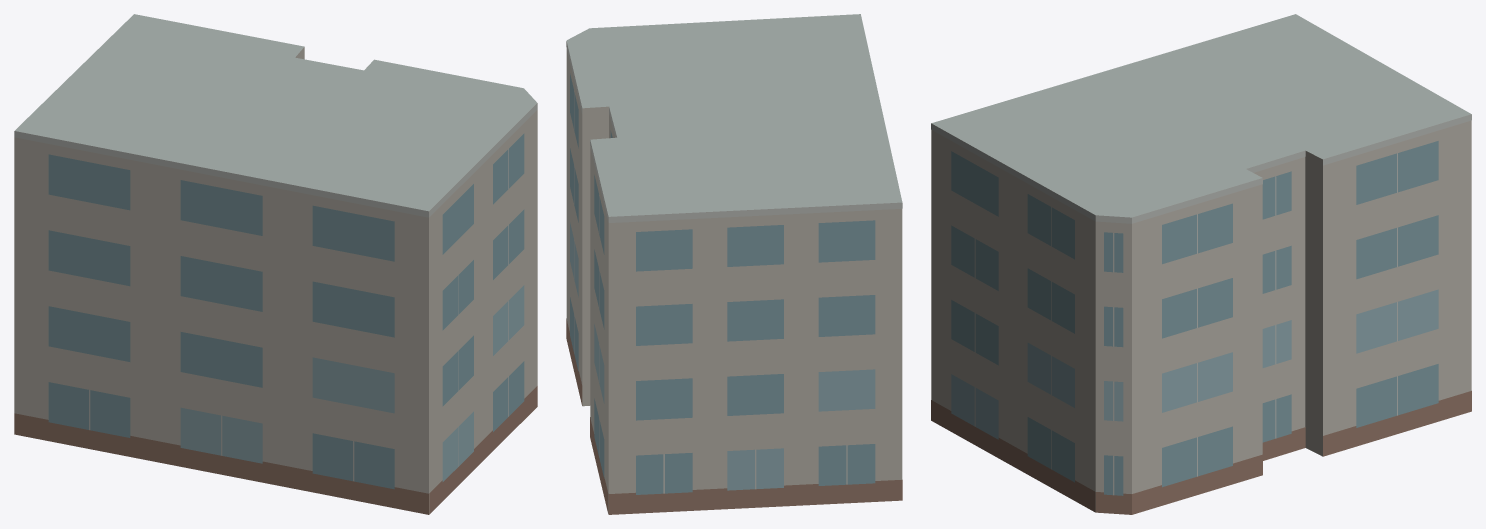
Rendered from survey-upis-33031485.glb.
The picture shows the model from 3 angles, left to right: view 1: azimuth 30°, elevation 25°; view 2: azimuth 150°, elevation 25°; view 3: azimuth 270°, elevation 25°; orthographic projection. The views are drawn at different scales.
Visible parts, largest first — view 1: survey-upis-33031485.tmp; view 2: survey-upis-33031485.tmp; view 3: survey-upis-33031485.tmp.
Boxes of the visible parts, left/top/right/bottom form: survey-upis-33031485.tmp: left=14, top=14, right=537, bottom=514; survey-upis-33031485.tmp: left=566, top=14, right=902, bottom=514; survey-upis-33031485.tmp: left=931, top=14, right=1471, bottom=514.
Size of the model in its own units: 17.04 by 11.6 by 19.12.
